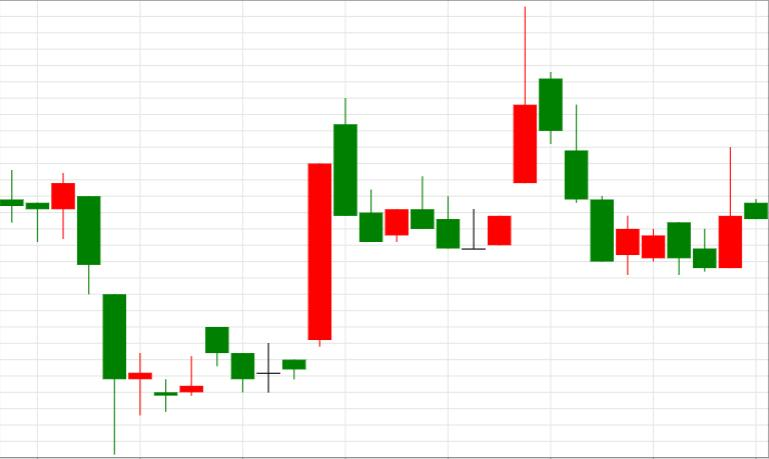three_black_crows_fall: (462, 6, 614, 261)
